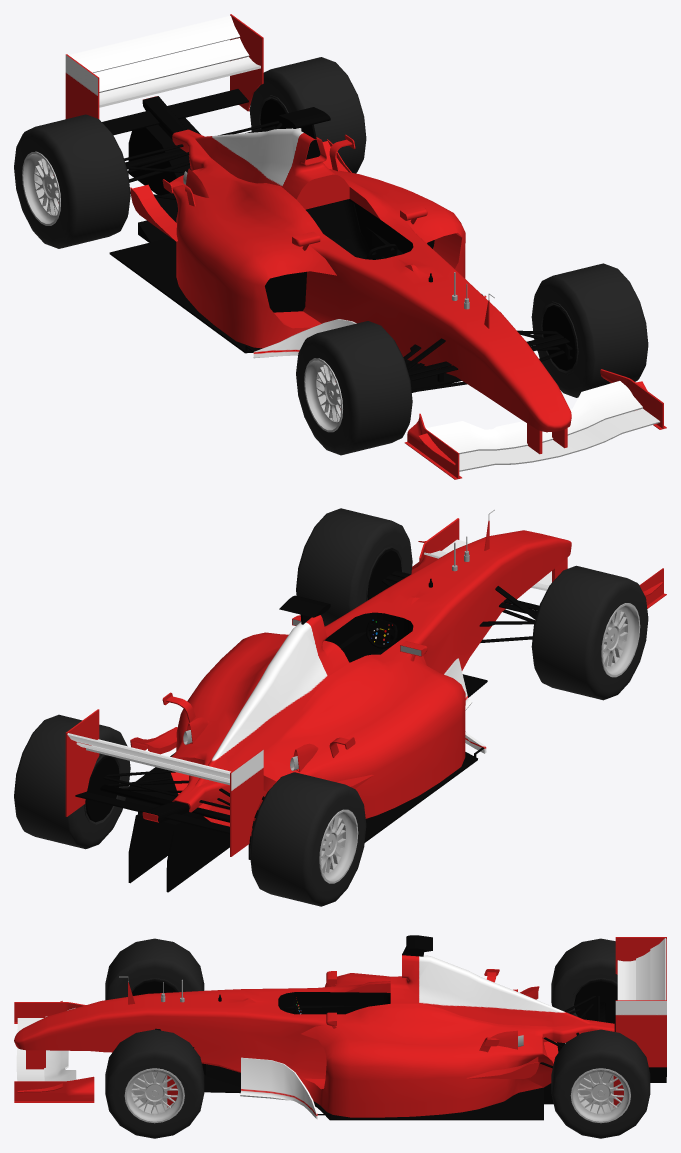
The model's file is apex-formula.obj.
The picture shows the model from 3 angles, top to bottom: view 1: azimuth 30°, elevation 25°; view 2: azimuth 150°, elevation 25°; view 3: azimuth 270°, elevation 25°; orthographic projection. The views are drawn at different scales.
Visible parts, largest first — view 1: Plane.032, Circle.095, Circle.097, Circle.091, Circle.093, Plane.034, Plane.013, Circle.094, Circle.092; view 2: Plane.032, Circle.091, Circle.097, Circle.093, Circle.095, Plane.034, Plane.013, Circle.092, Circle.094, Plane.024; view 3: Plane.032, Circle.095, Circle.093, Circle.097, Circle.091, Plane.029, Plane.021, Circle.092, Circle.100, Circle.101.
Boxes of the visible parts, x1,y1,x2,y2 form: Plane.032: (65,14,666,479); Circle.095: (531,263,648,397); Circle.097: (296,321,412,455); Circle.091: (14,114,130,248); Circle.093: (249,57,366,173); Plane.034: (22,151,60,225); Plane.013: (304,358,342,432); Circle.094: (403,330,569,392); Circle.092: (124,121,282,199); Plane.032: (65,509,666,892); Circle.091: (249,772,366,906); Circle.097: (531,565,648,700); Circle.093: (14,714,130,849); Circle.095: (296,508,412,626); Plane.034: (319,809,358,883); Plane.013: (601,603,640,677); Circle.092: (100,770,264,828); Circle.094: (381,570,539,643); Plane.024: (366,619,397,648); Plane.032: (14,935,666,1120); Circle.095: (105,1029,204,1138); Circle.093: (551,1029,650,1138); Circle.097: (105,938,204,1000); Circle.091: (551,938,617,1024); Plane.029: (570,1068,630,1123); Plane.021: (124,1068,184,1123); Circle.092: (540,996,605,1068); Circle.100: (132,1072,167,1104); Circle.101: (578,1072,613,1104).
Bounding box in the file's own units: 2.17 × 1.24 × 5.2.
